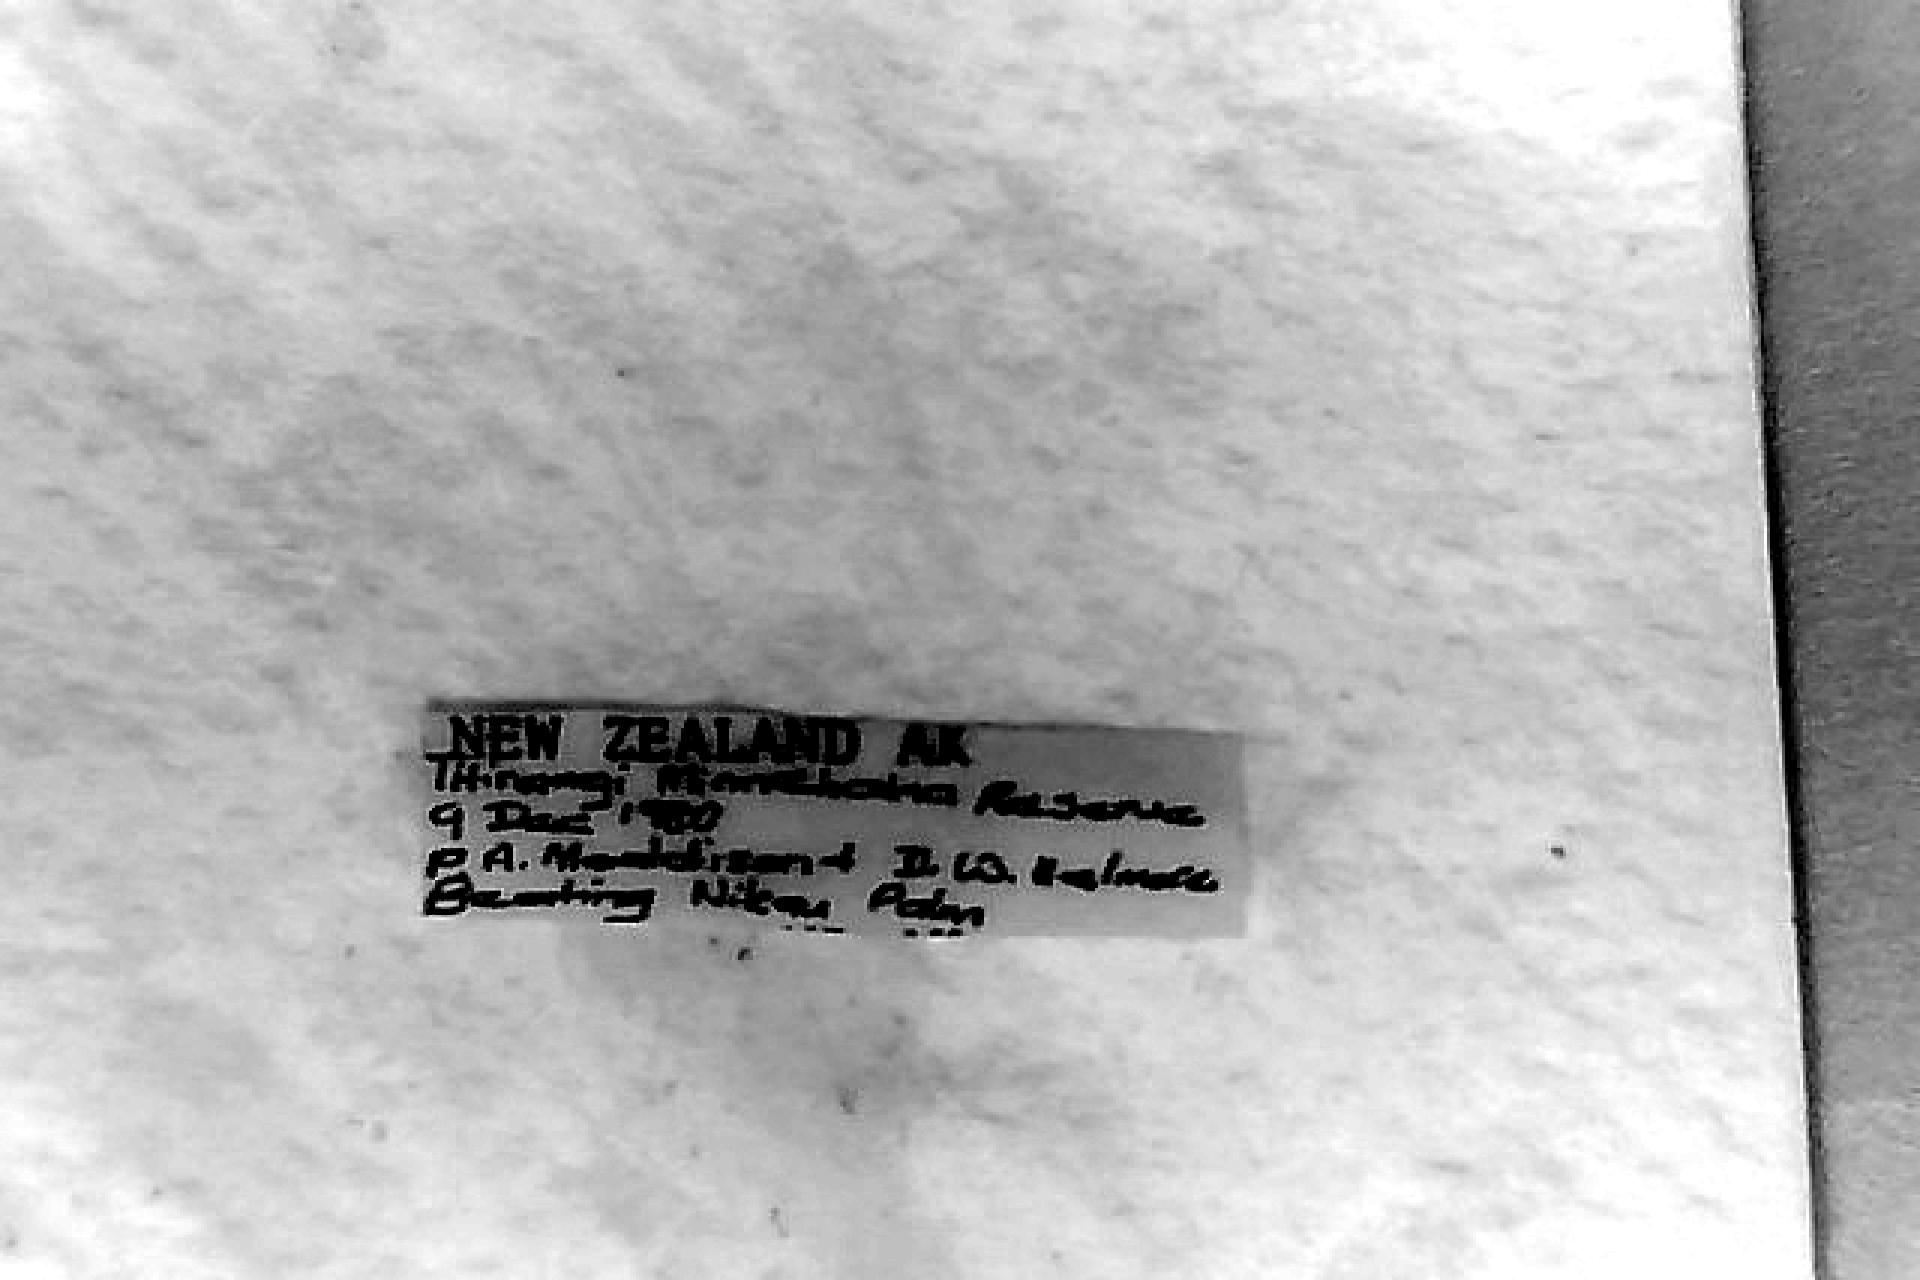mixed_label: (427, 703, 1249, 937)
